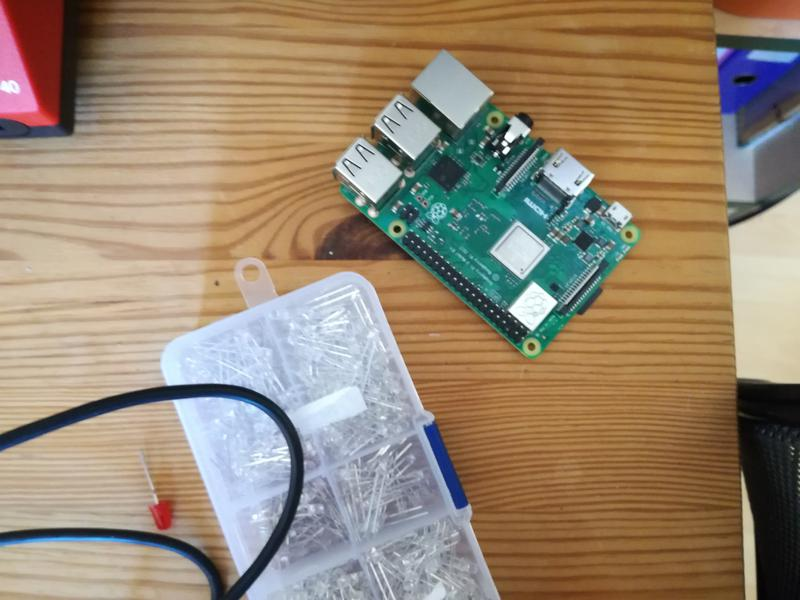Raspberry_Pi_3: (328, 46, 651, 363)
